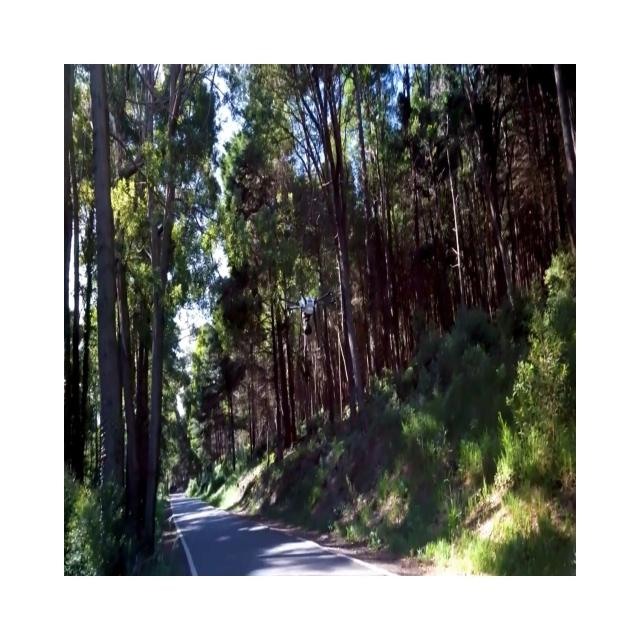drone: (282, 289, 336, 337)
